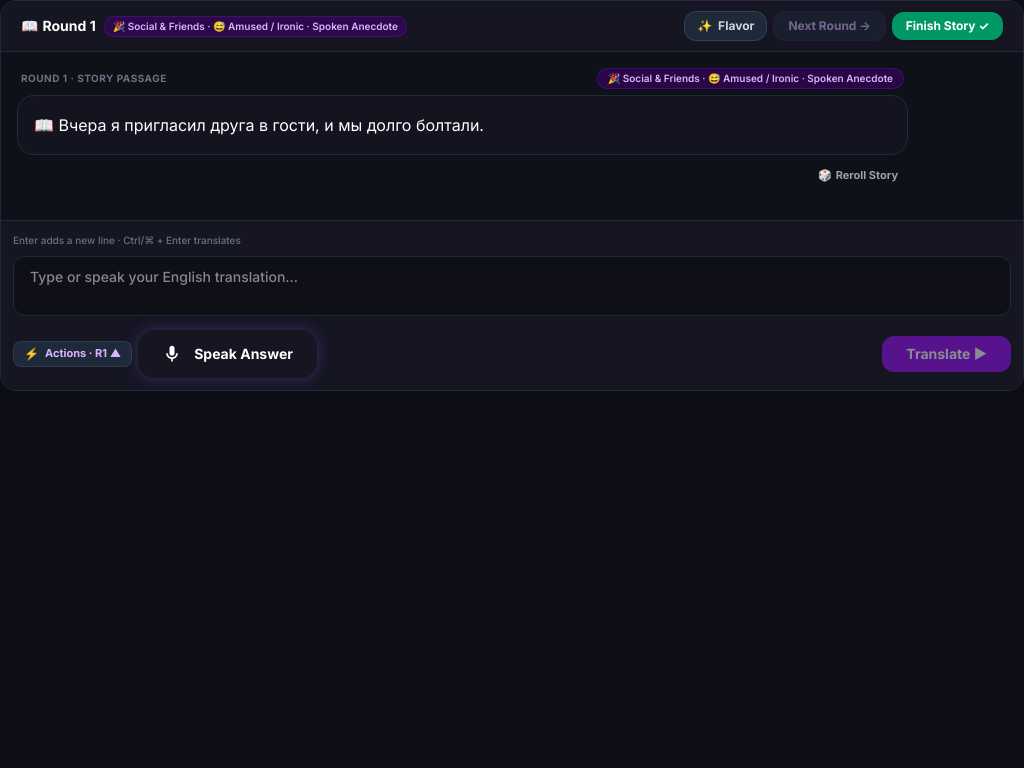
Test: TranslationStorySession Component › keeps the learner translation visible and offers a retry when feedback is unparsable
Expected: the text "📖 Вчера я пригласил друга в гости, и мы долго болтали." is shown, left=34, top=115, right=484, bottom=135
Type "My translation attempt." into the text box with placeholder "Type or speak your English translation..." at (512, 286), box left=13, top=256, right=1011, bottom=316
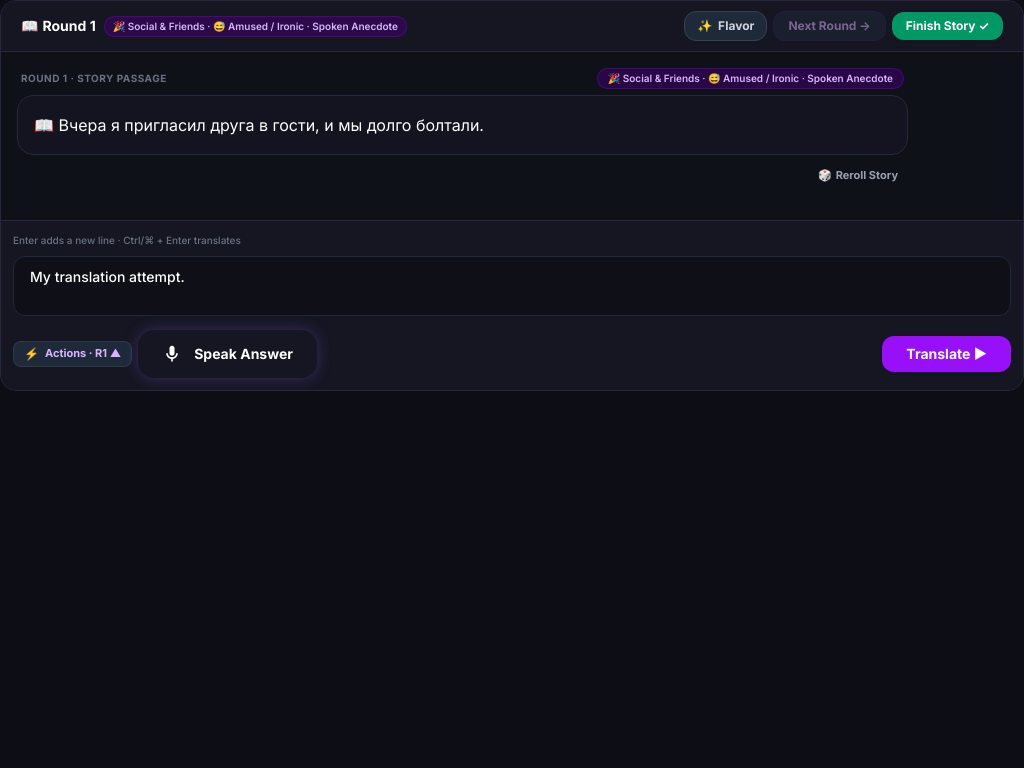
Click the button "Translate ▶" at (947, 354), box left=882, top=336, right=1011, bottom=372
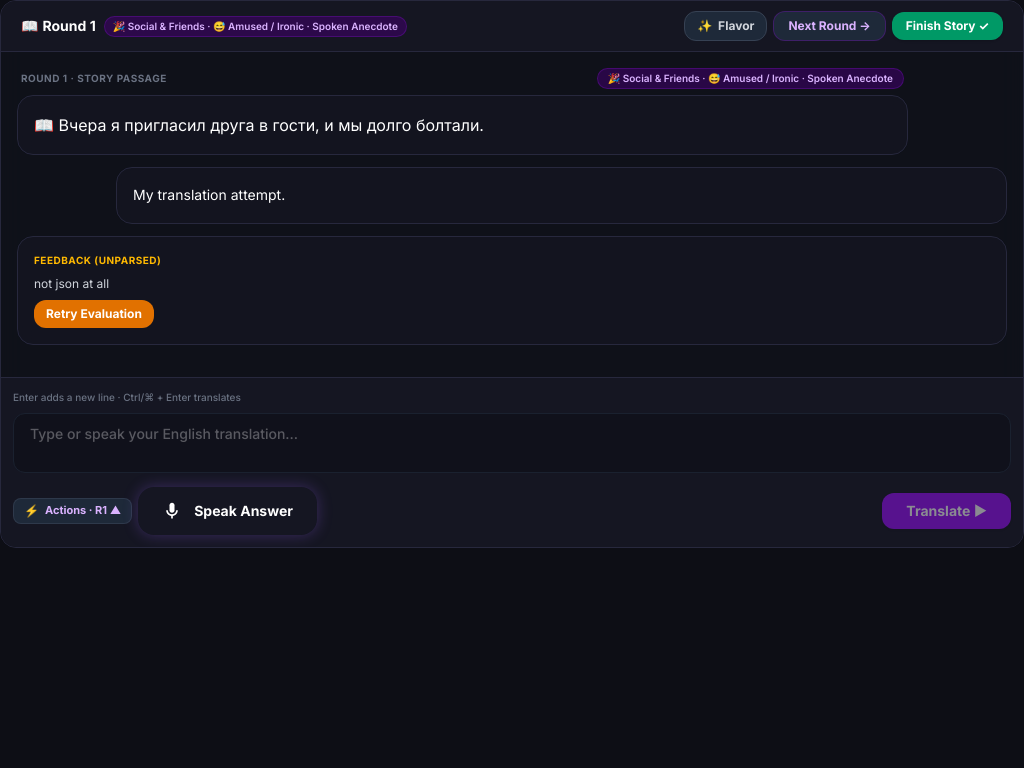
Now the text with test id "story-raw-feedback" reads "not json at all", box left=34, top=276, right=109, bottom=291
Click the button "Retry Evaluation" at (94, 314), box left=34, top=300, right=154, bottom=328
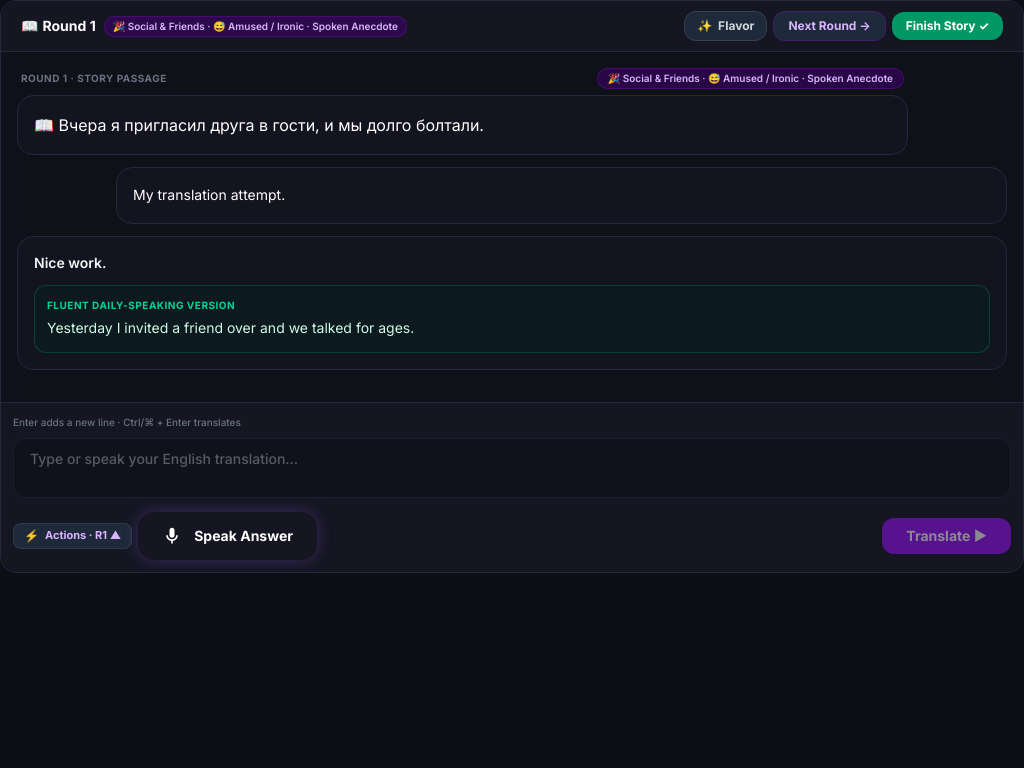
Now the element with test id "story-feedback" is shown, box left=17, top=236, right=1007, bottom=370
